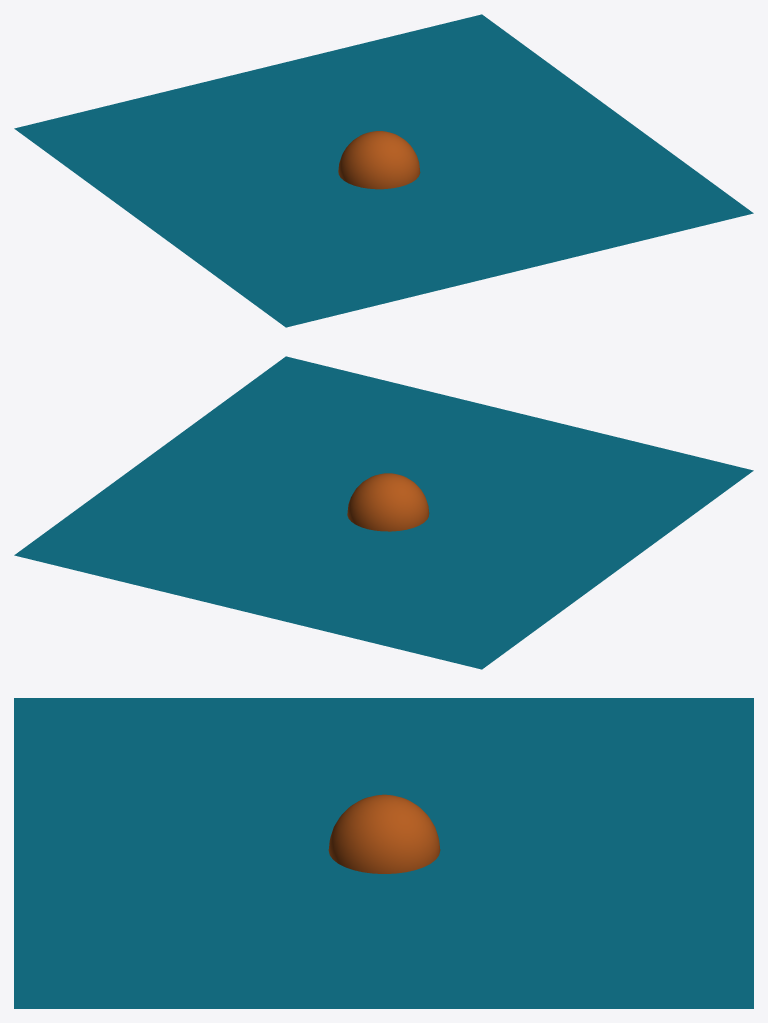
File: simple_006_AmbientLight_00.dae
3 views of the same model, one above another, from view 1: azimuth 30°, elevation 25°; view 2: azimuth 150°, elevation 25°; view 3: azimuth 270°, elevation 25° (orthographic). The views are drawn at different scales.
Visible parts, largest first — view 1: pPlane1, pSphere1; view 2: pPlane1, pSphere1; view 3: pPlane1, pSphere1.
Part boxes in pixels (<box>): pPlane1: <box>14,14,753,327</box>; pSphere1: <box>338,131,420,189</box>; pPlane1: <box>14,356,753,669</box>; pSphere1: <box>347,473,429,531</box>; pPlane1: <box>14,698,753,1008</box>; pSphere1: <box>328,794,440,873</box>.
Size of the model in its own units: 198 by 199 by 30.
